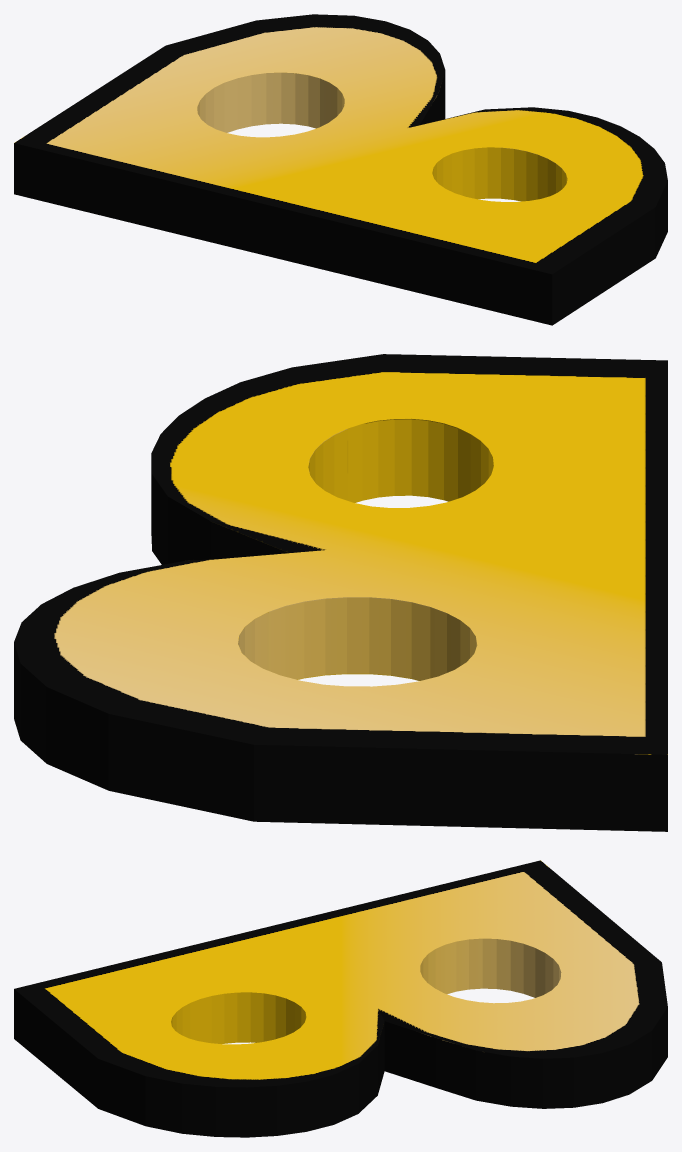
Rendered from BAM_B2.fbx.
3 views of the same model, one above another, from view 1: azimuth 30°, elevation 25°; view 2: azimuth 150°, elevation 25°; view 3: azimuth 270°, elevation 25° (orthographic). The views are drawn at different scales.
Visible parts, largest first — view 1: B2; view 2: B2; view 3: B2.
Boxes of the visible parts, x1,y1,x2,y2 form: B2: (14,14,667,325); B2: (14,354,667,831); B2: (14,860,667,1137).
Size of the model in its own units: 306 by 35.29 by 373.
1 material, 1 textured.
